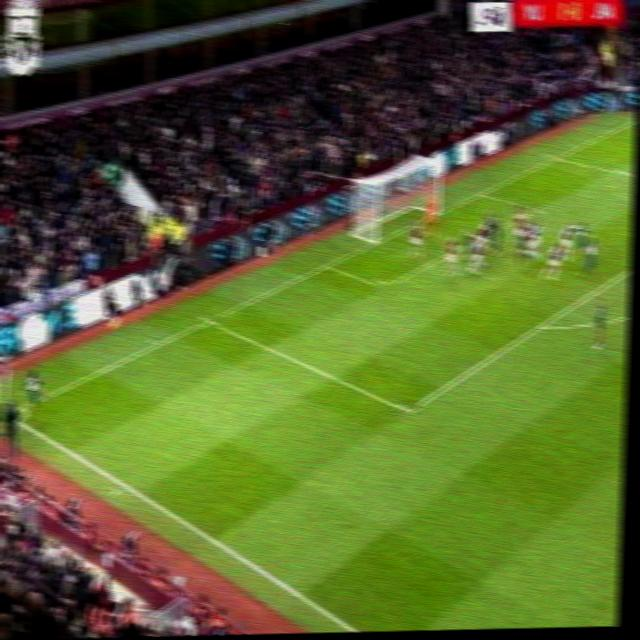bigarea_bottom_inner: (397, 395, 420, 424)
bigarea_bottom_outter: (198, 310, 220, 330)
bigarea_top_outter: (548, 149, 566, 165)
bottom_arc_area_intersection: (531, 313, 552, 337)
corner: (630, 113, 637, 126)
smallarea_bottom_inner: (373, 273, 395, 297)
smallarea_bottom_outter: (318, 254, 337, 275)
smallarea_top_inner: (527, 200, 546, 217)
smallarea_top_outter: (473, 184, 491, 201)
